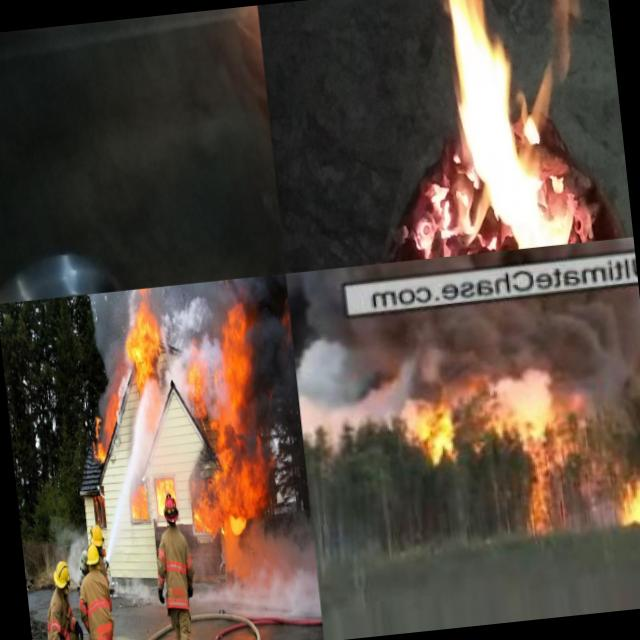fire: (335, 0, 602, 265), (207, 308, 269, 530), (121, 287, 163, 390), (399, 396, 458, 468), (522, 460, 567, 532), (83, 388, 124, 463), (188, 480, 232, 543), (601, 470, 640, 538), (187, 348, 210, 420), (208, 415, 225, 481), (128, 490, 152, 524), (156, 478, 167, 516), (164, 478, 176, 497)
smoke: (454, 287, 640, 405), (291, 312, 408, 439), (242, 273, 304, 449), (153, 284, 193, 406), (226, 556, 290, 630), (87, 291, 130, 390), (237, 520, 314, 562), (198, 331, 230, 417), (182, 282, 212, 351), (63, 520, 91, 582), (205, 278, 245, 312), (48, 511, 66, 561)
